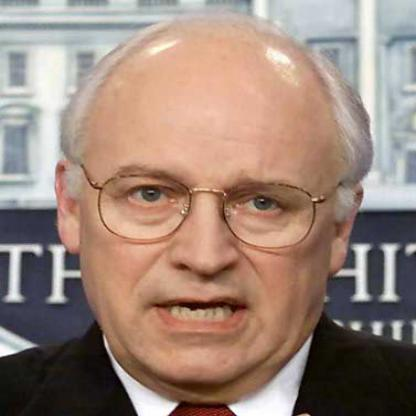face: (79, 15, 341, 390)
